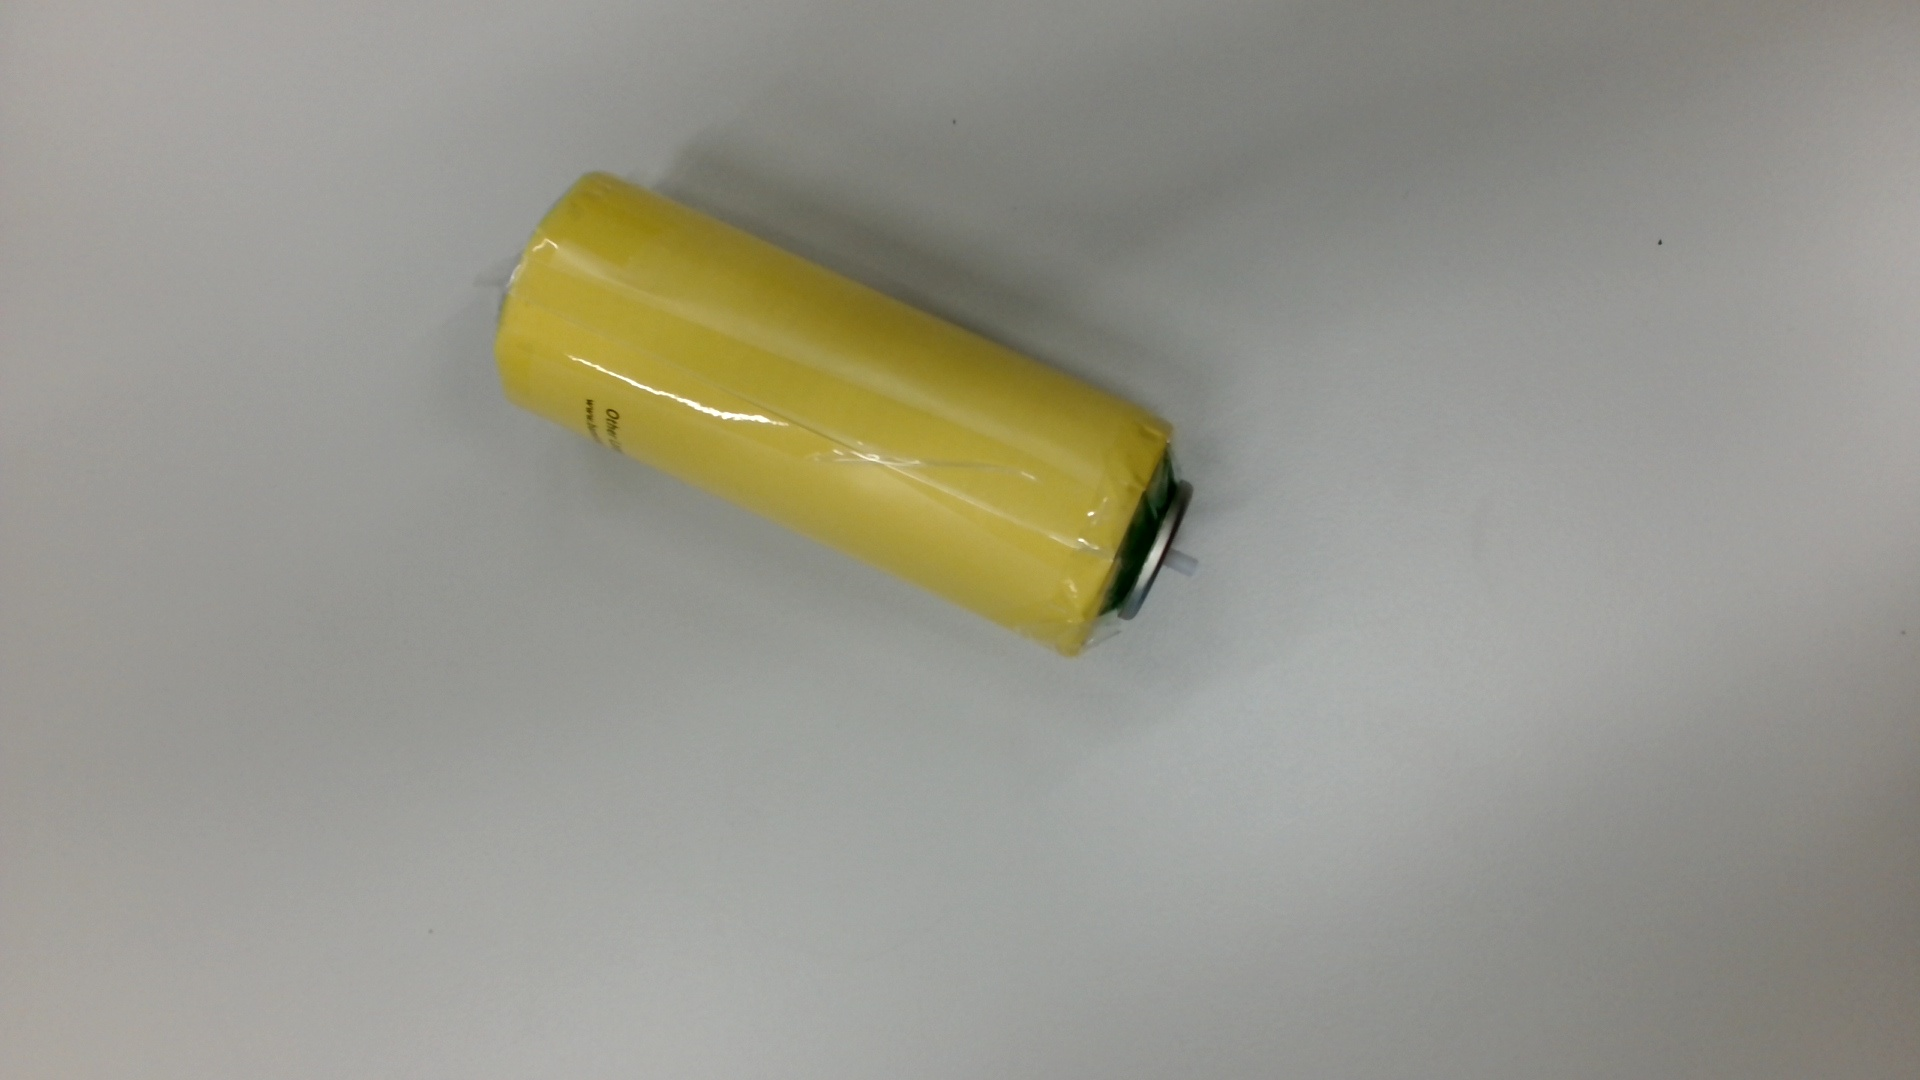Cylinder: (473, 158, 1226, 675)
